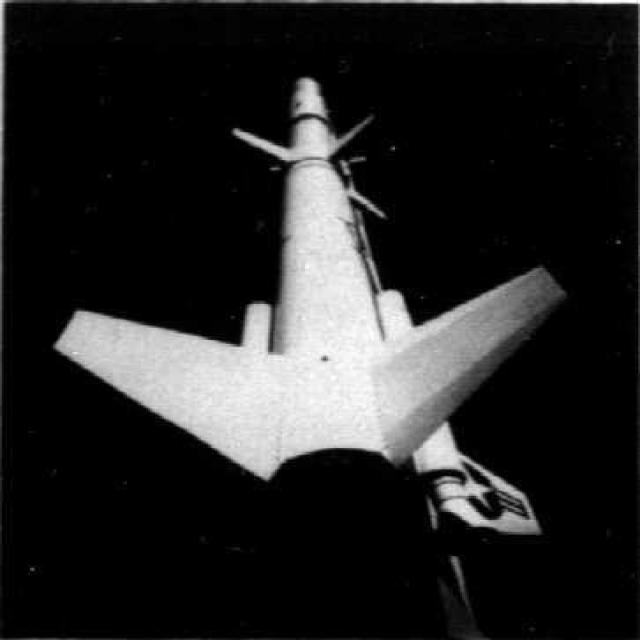missile: (50, 71, 567, 561)
